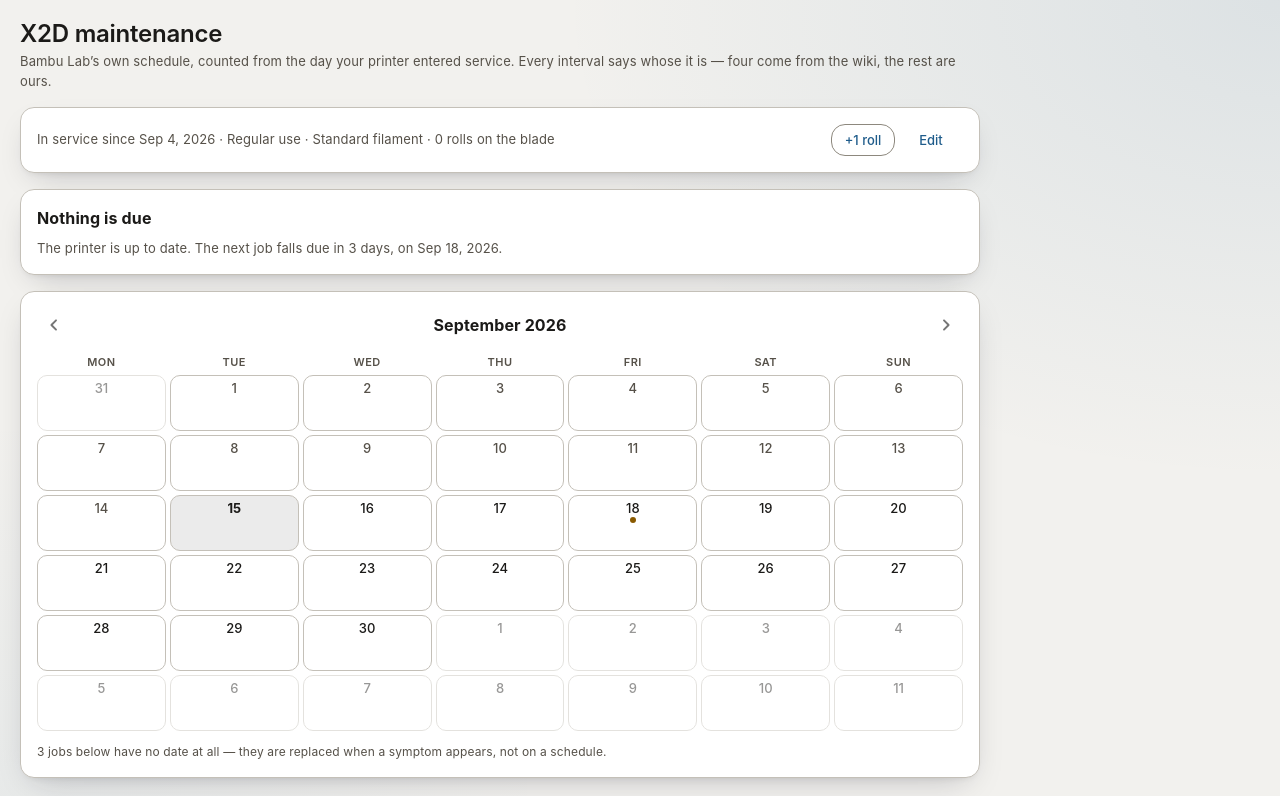
Scenario: paging to another month keeps the grid six weeks tall
This screenshot has width=1280, height=796.
expect the heading "September 2026" is shown: met, box [434,313,566,338]
Click the button named "Next month".
click(946, 325)  # box [929,308,963,342]
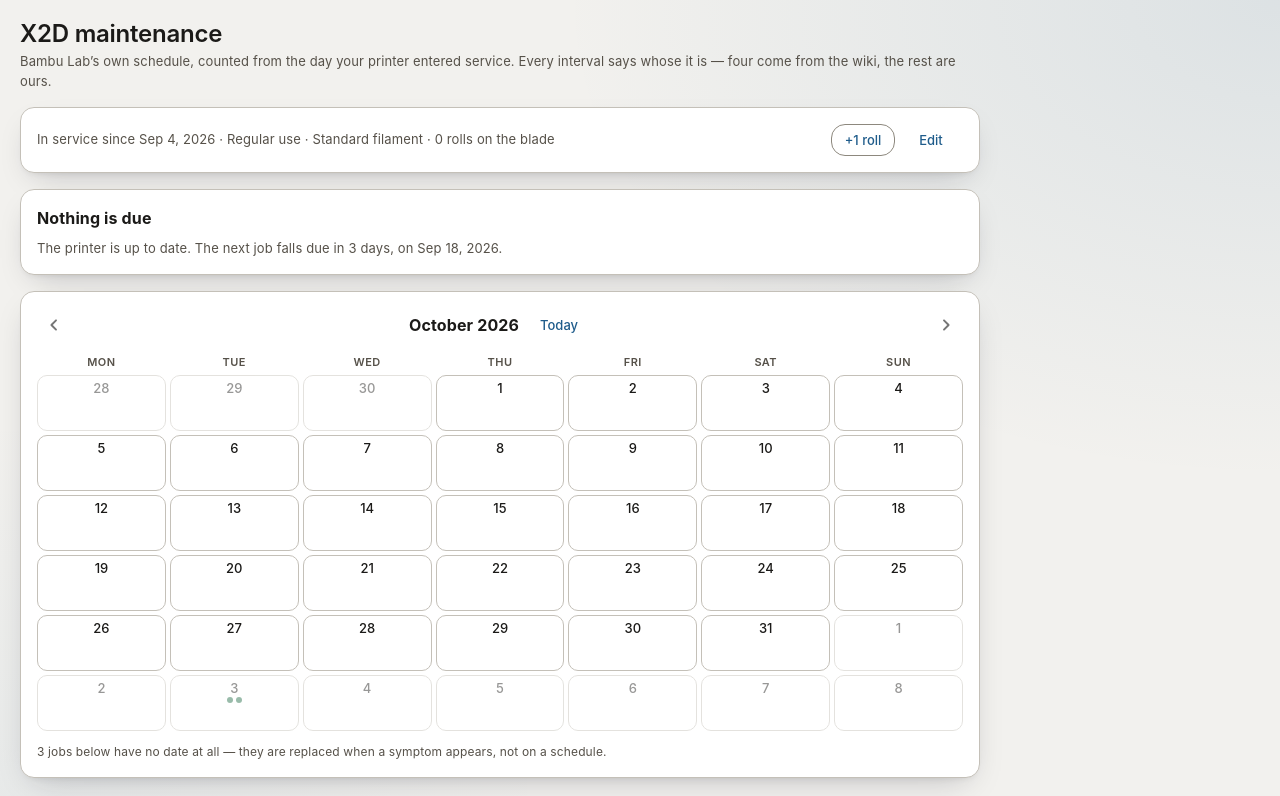
expect the heading "October 2026" is shown: met, box [409,313,519,338]
Click the button "Today".
click(559, 325)  # box [527,309,591,341]
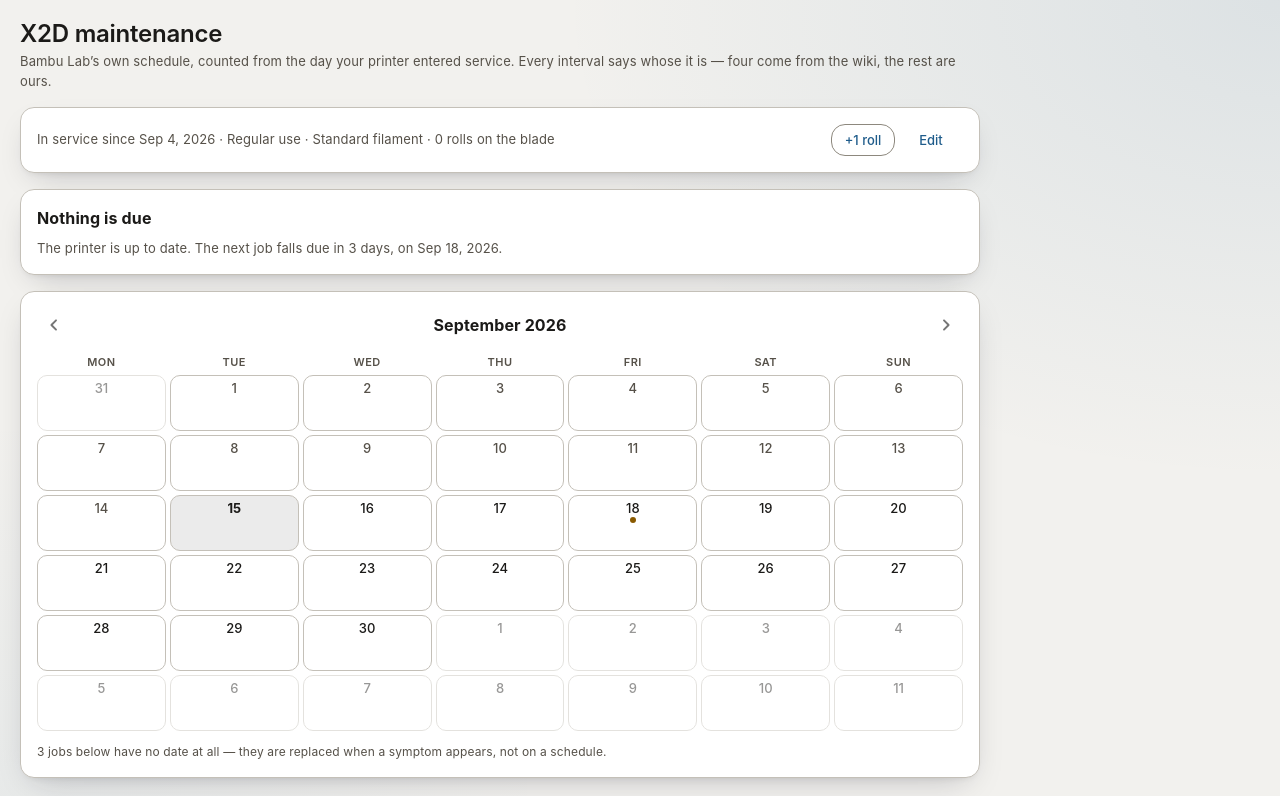
expect the heading "September 2026" is shown: met, box [434,313,566,338]
